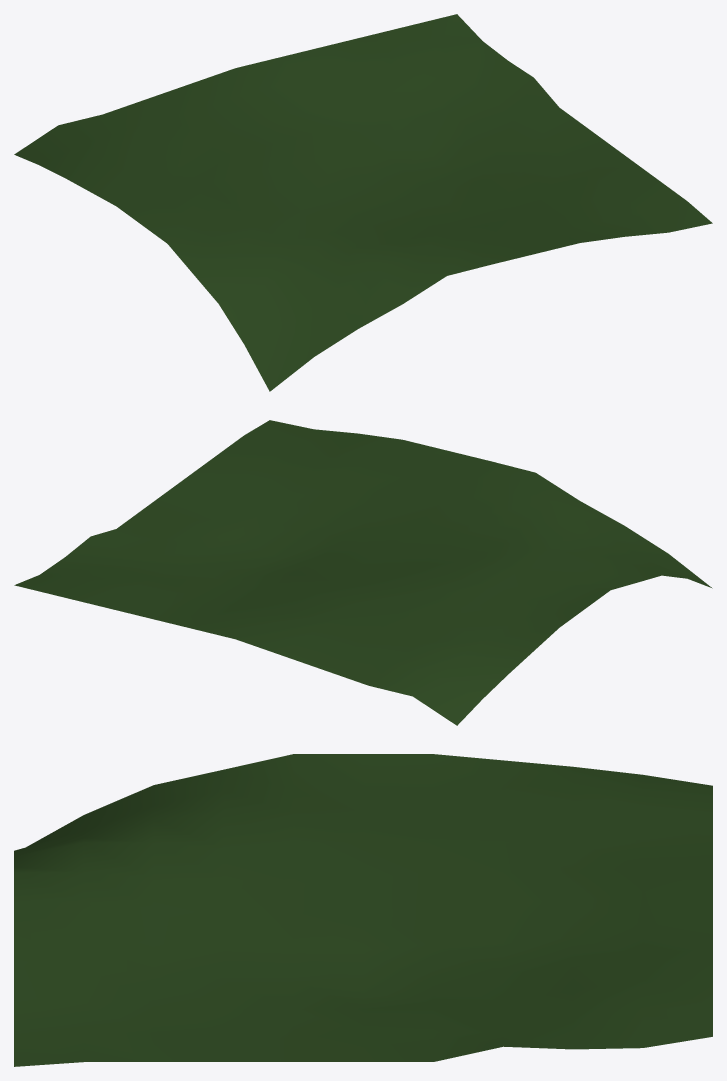
3 views of the same model, one above another, from view 1: azimuth 30°, elevation 25°; view 2: azimuth 150°, elevation 25°; view 3: azimuth 270°, elevation 25° (orthographic). The views are drawn at different scales.
Parts seen in each view (by area): view 1: TerrainModel.080; view 2: TerrainModel.080; view 3: TerrainModel.080.
Part boxes in pixels (x1,y1,x2,y2): TerrainModel.080: [14, 14, 712, 391]; TerrainModel.080: [14, 420, 712, 725]; TerrainModel.080: [14, 754, 712, 1066].
Bounding box in the file's own units: 19608 × 3485 × 19608.
